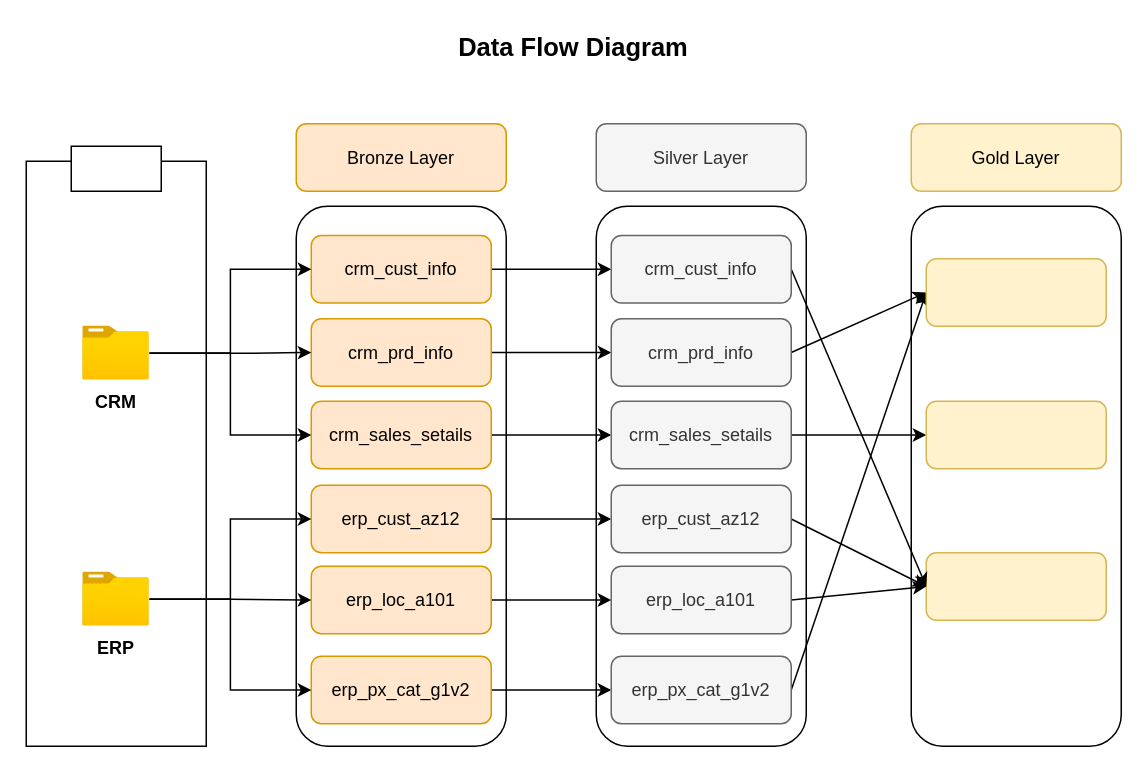
Some shapes in this 1148 by 773 pixel diagram are drawn without their labels. The shapes that lost their labels are listed below. From the top down, each one's centre as x and y in pixels, then its label:
(115,168): Sources
(1015,291): dim_products
(1015,434): fact_sales
(1015,585): dim_customers
